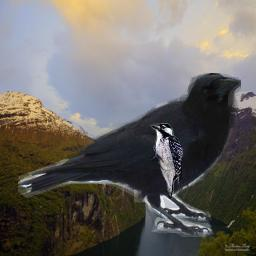Crow: (18, 73, 241, 237)
Woodpecker: (150, 123, 183, 199)
